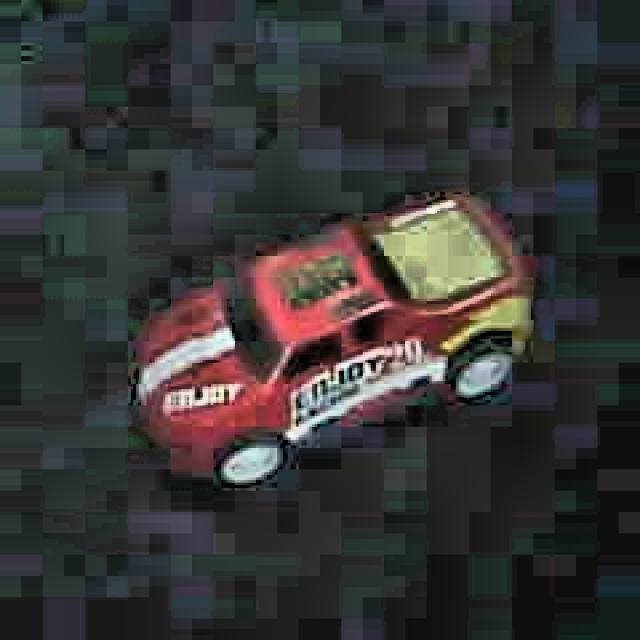car: (127, 187, 542, 499)
